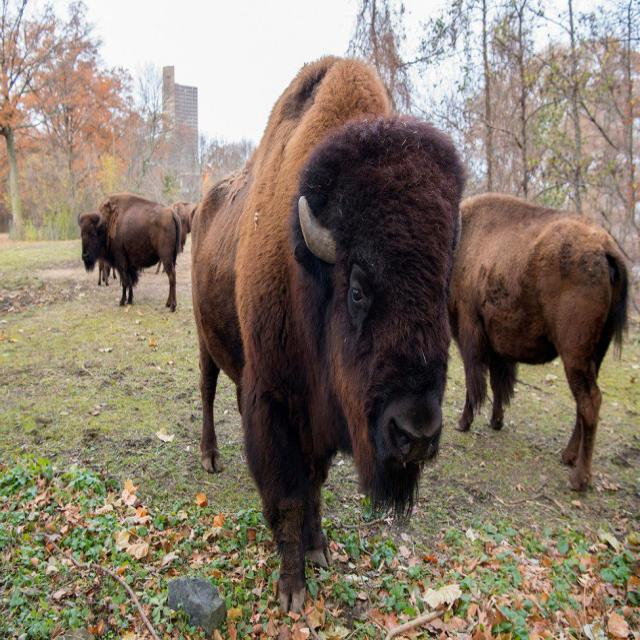bison: (192, 56, 464, 611), (78, 193, 182, 311)
